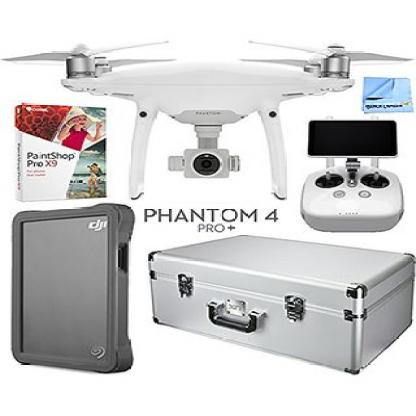drone: (5, 31, 406, 144)
